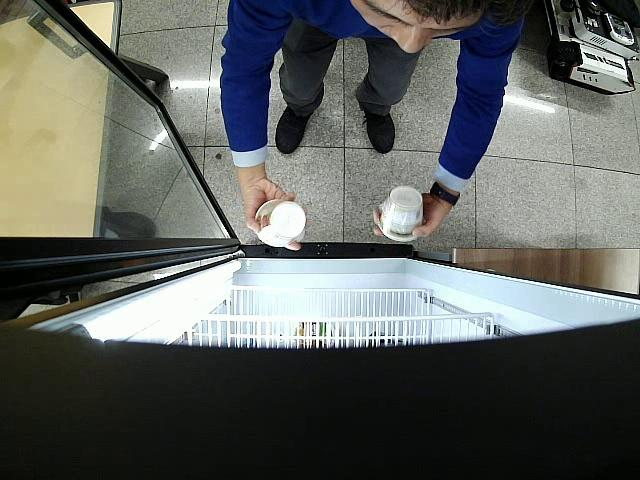00_hand: (239, 178, 301, 250), (373, 193, 451, 236)
04_chapagetti_S: (378, 186, 424, 241), (254, 199, 306, 247)
